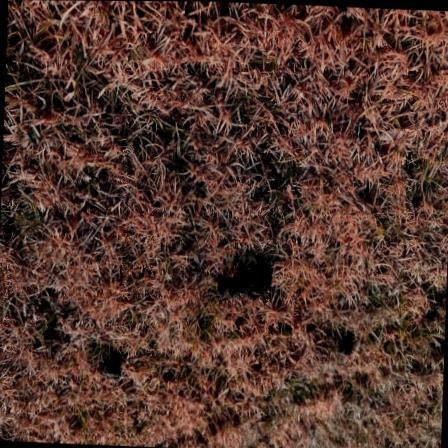dog-poop: (213, 254, 273, 313)
